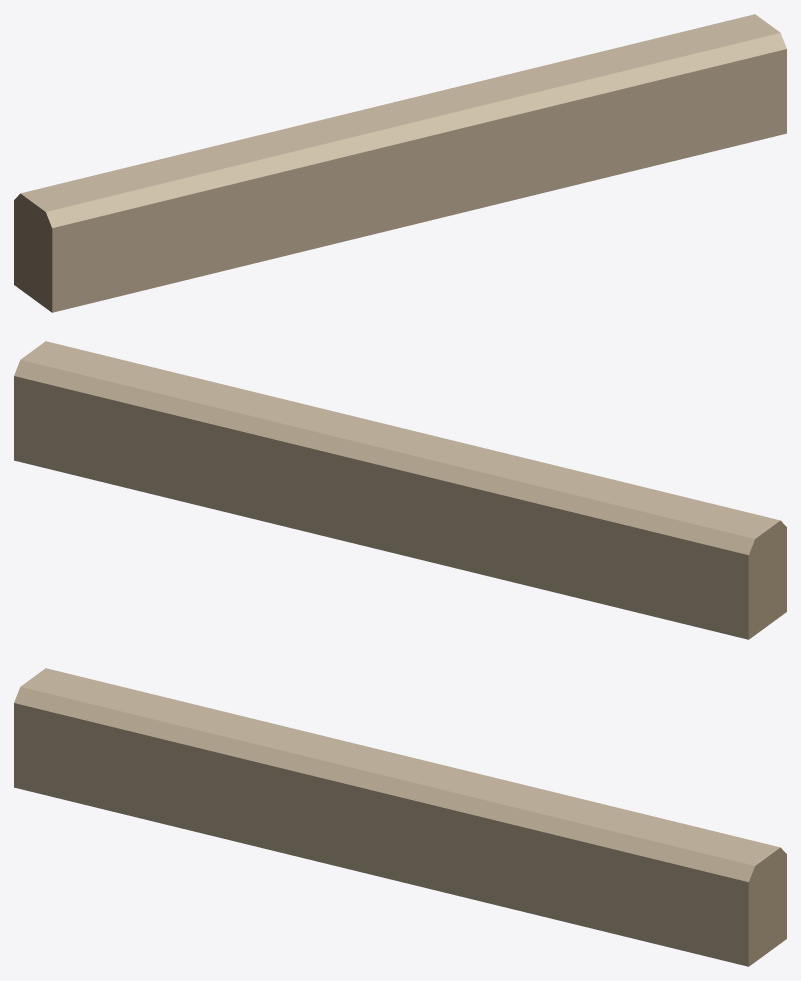
The model's file is alc_curb.glb.
3 views of the same model, one above another, from view 1: azimuth 30°, elevation 25°; view 2: azimuth 150°, elevation 25°; view 3: azimuth 330°, elevation 25° (orthographic).
Parts seen in each view (by area): view 1: alc_curb; view 2: alc_curb; view 3: alc_curb.
Part boxes in pixels (x1,y1,x2,y2): alc_curb: [14, 14, 786, 312]; alc_curb: [14, 341, 786, 639]; alc_curb: [14, 668, 786, 966].
Bounding box in the file's own units: 2 × 0.25 × 0.18.
